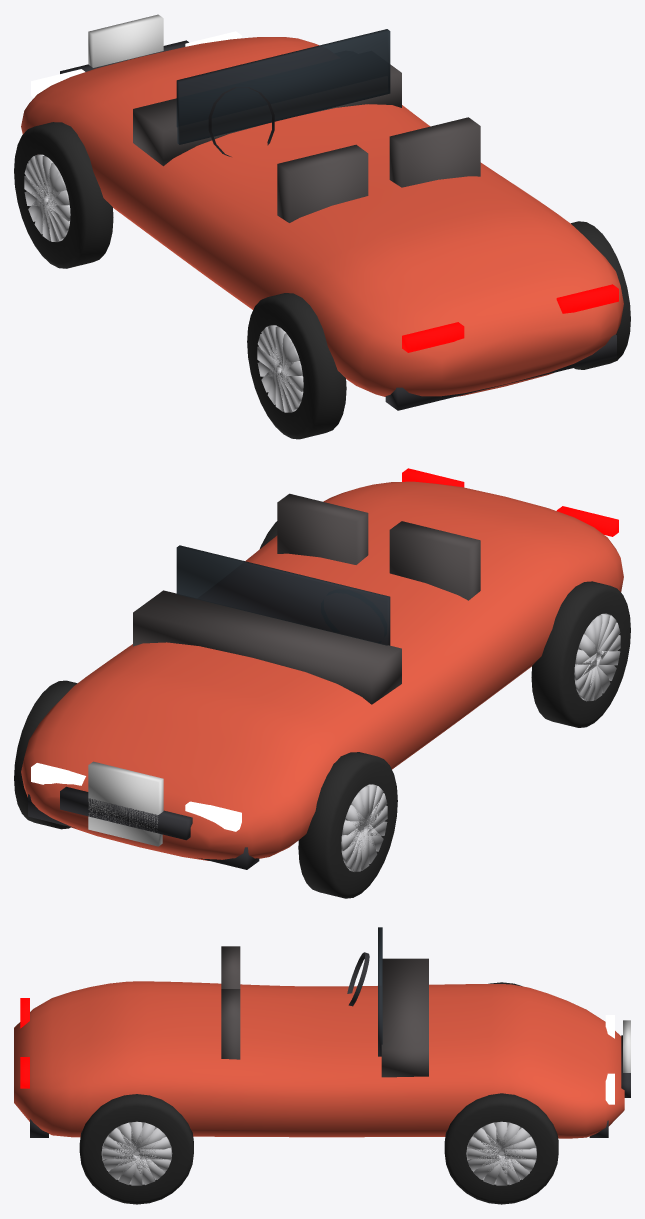
The model's file is car10_breeze.glb.
The picture shows the model from 3 angles, top to bottom: view 1: azimuth 30°, elevation 25°; view 2: azimuth 150°, elevation 25°; view 3: azimuth 270°, elevation 25°; orthographic projection. The views are drawn at different scales.
Visible parts, largest first — view 1: car10_breeze_Body, car10_breeze_Interior, car10_breeze_Glass, car10_breeze_Wheel_FL, car10_breeze_Wheel_RL, car10_breeze_Lights_Rear, car10_breeze_Wheel_RR, car10_breeze_Lights_Front; view 2: car10_breeze_Body, car10_breeze_Interior, car10_breeze_Glass, car10_breeze_Wheel_FL, car10_breeze_Wheel_RL, car10_breeze_Wheel_FR, car10_breeze_Lights_Front, car10_breeze_Lights_Rear; view 3: car10_breeze_Body, car10_breeze_Wheel_FR, car10_breeze_Wheel_RR, car10_breeze_Interior, car10_breeze_Glass, car10_breeze_Lights_Rear, car10_breeze_SteeringWheel, car10_breeze_Lights_Front.
Boxes of the visible parts, bbox=[...] form: car10_breeze_Body: bbox=[21, 14, 623, 410]; car10_breeze_Interior: bbox=[133, 64, 480, 222]; car10_breeze_Glass: bbox=[176, 29, 390, 144]; car10_breeze_Wheel_FL: bbox=[14, 122, 113, 268]; car10_breeze_Wheel_RL: bbox=[247, 293, 346, 439]; car10_breeze_Lights_Rear: bbox=[402, 284, 618, 352]; car10_breeze_Wheel_RR: bbox=[571, 221, 630, 369]; car10_breeze_Lights_Front: bbox=[31, 31, 241, 97]; car10_breeze_Body: bbox=[21, 481, 623, 869]; car10_breeze_Interior: bbox=[133, 493, 480, 704]; car10_breeze_Glass: bbox=[176, 545, 390, 645]; car10_breeze_Wheel_FL: bbox=[298, 752, 397, 898]; car10_breeze_Wheel_RL: bbox=[531, 581, 630, 727]; car10_breeze_Wheel_FR: bbox=[14, 680, 77, 829]; car10_breeze_Lights_Front: bbox=[31, 763, 241, 831]; car10_breeze_Lights_Rear: bbox=[402, 468, 618, 536]; car10_breeze_Body: bbox=[14, 981, 630, 1138]; car10_breeze_Wheel_FR: bbox=[444, 1093, 558, 1204]; car10_breeze_Wheel_RR: bbox=[79, 1094, 193, 1204]; car10_breeze_Interior: bbox=[221, 946, 428, 1077]; car10_breeze_Glass: bbox=[378, 927, 382, 1056]; car10_breeze_Lights_Rear: bbox=[20, 998, 29, 1088]; car10_breeze_SteeringWheel: bbox=[347, 952, 369, 1006]; car10_breeze_Lights_Front: bbox=[605, 1015, 614, 1104].
Size of what is drawn, in the model's own units: 1.82 by 1.24 by 3.89.
